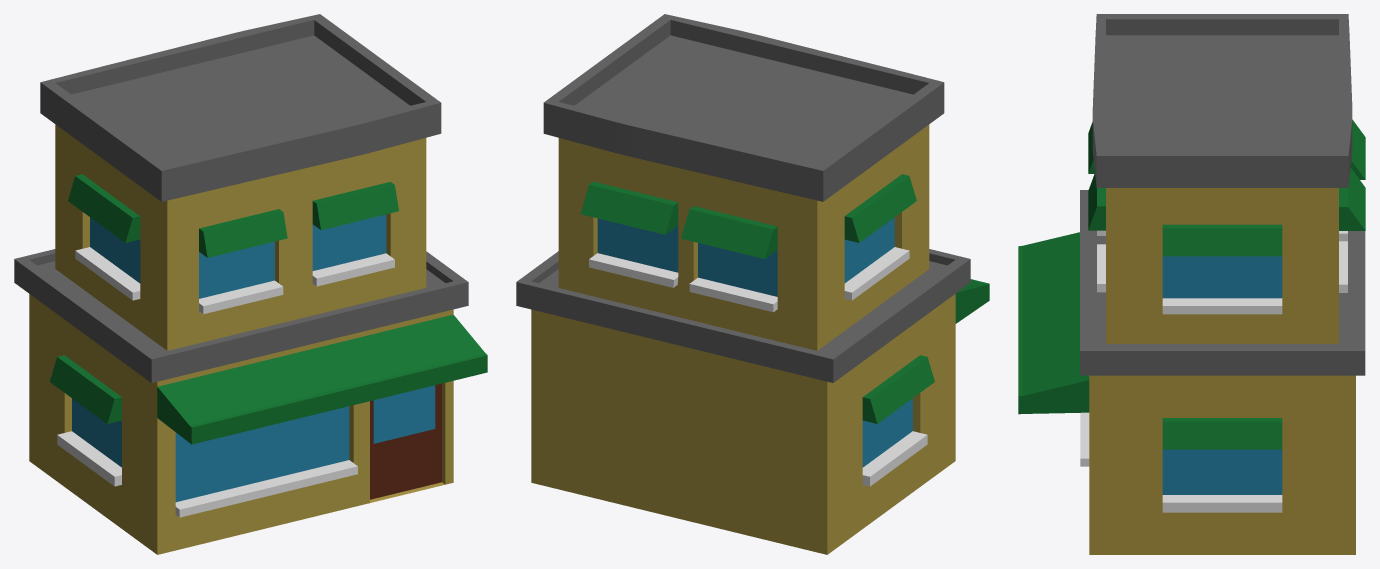
Rendered from kiosk duzy.fbx.
3 renders of one model, left to right at view 1: azimuth 30°, elevation 25°; view 2: azimuth 150°, elevation 25°; view 3: azimuth 270°, elevation 25°, orthographic. The views are drawn at different scales.
Visible parts, largest first — view 1: kiosk duzy; view 2: kiosk duzy; view 3: kiosk duzy.
Part boxes in pixels (x1=…): kiosk duzy: x1=14, y1=14, x2=487, y2=554; kiosk duzy: x1=516, y1=14, x2=989, y2=554; kiosk duzy: x1=1018, y1=14, x2=1365, y2=554.
Size of the model in its own units: 440 by 490 by 391.
